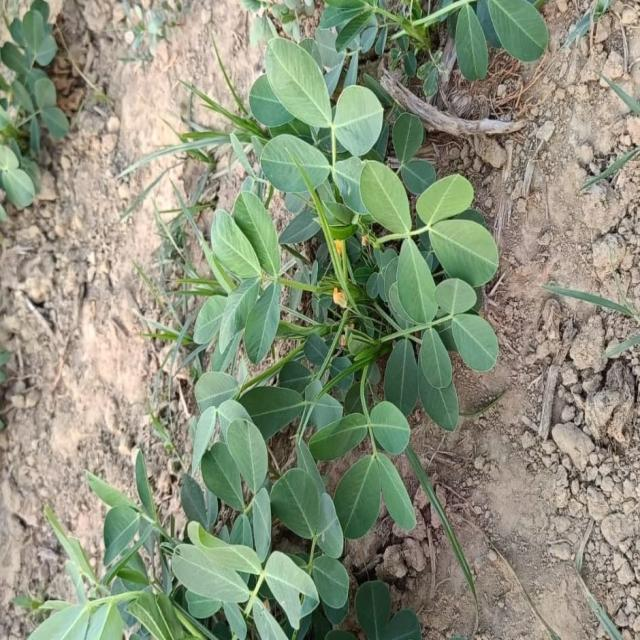plant: (32, 0, 548, 639)
